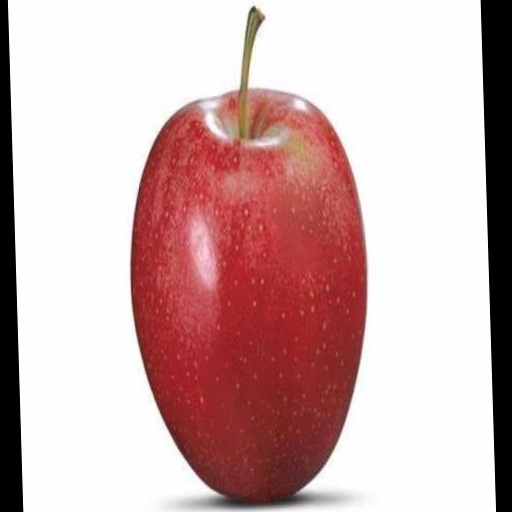fruit: (131, 8, 366, 501)
